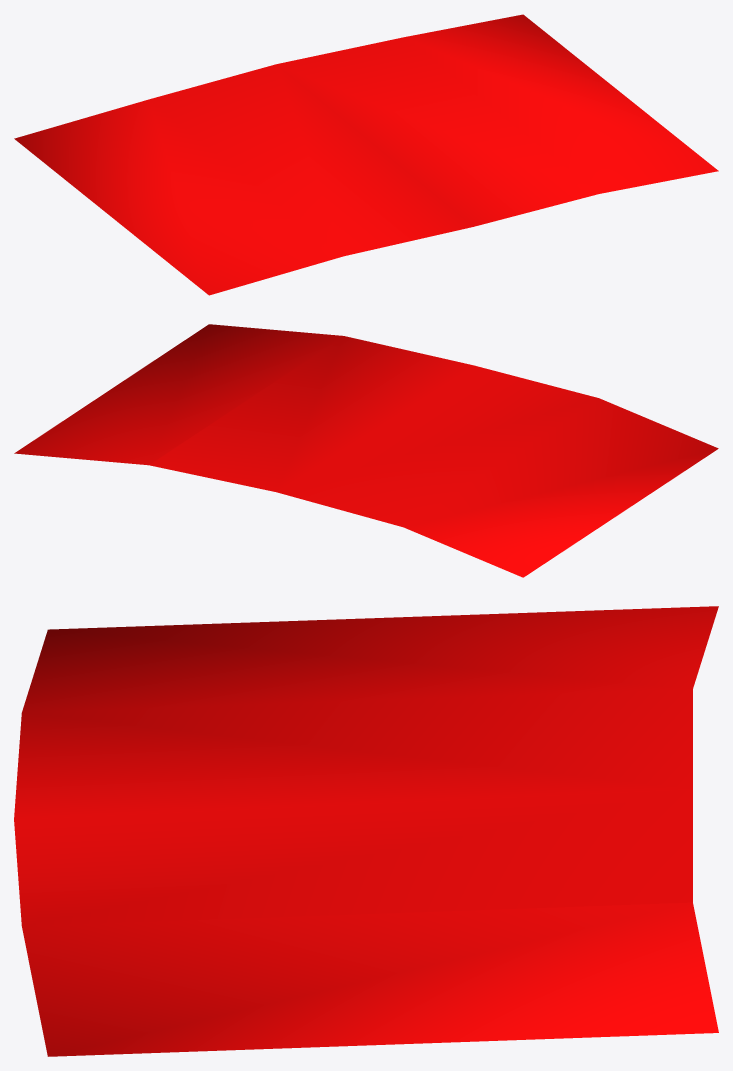
File: cofre.fbx
The picture shows the model from 3 angles, top to bottom: view 1: azimuth 30°, elevation 25°; view 2: azimuth 150°, elevation 25°; view 3: azimuth 270°, elevation 25°; orthographic projection. The views are drawn at different scales.
Parts seen in each view (by area): view 1: cofre; view 2: cofre; view 3: cofre.
Part boxes in pixels (box(x1,y1,x2,y2)): cofre: box(14, 14, 718, 295); cofre: box(14, 324, 718, 577); cofre: box(14, 606, 718, 1056).
Bounding box in the file's own units: 194 × 11.5 × 135.
